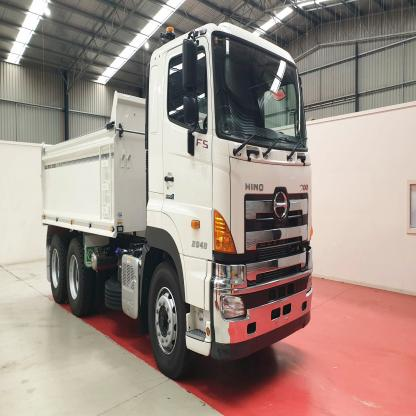dump_truck: (31, 19, 316, 382)
